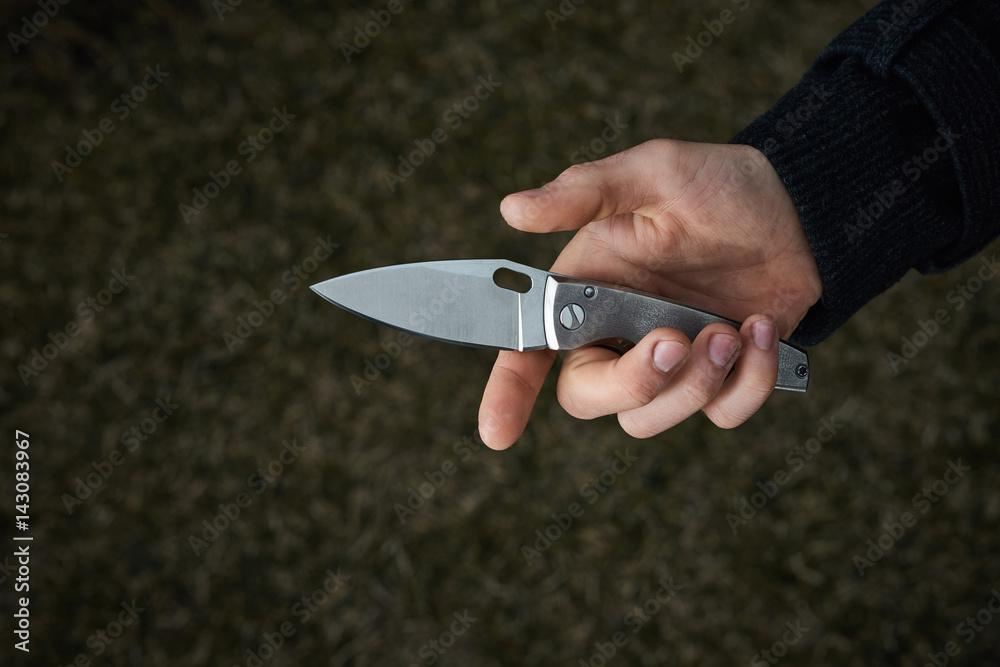Knife: (479, 0, 1000, 451), (478, 135, 814, 452), (308, 258, 592, 352)
